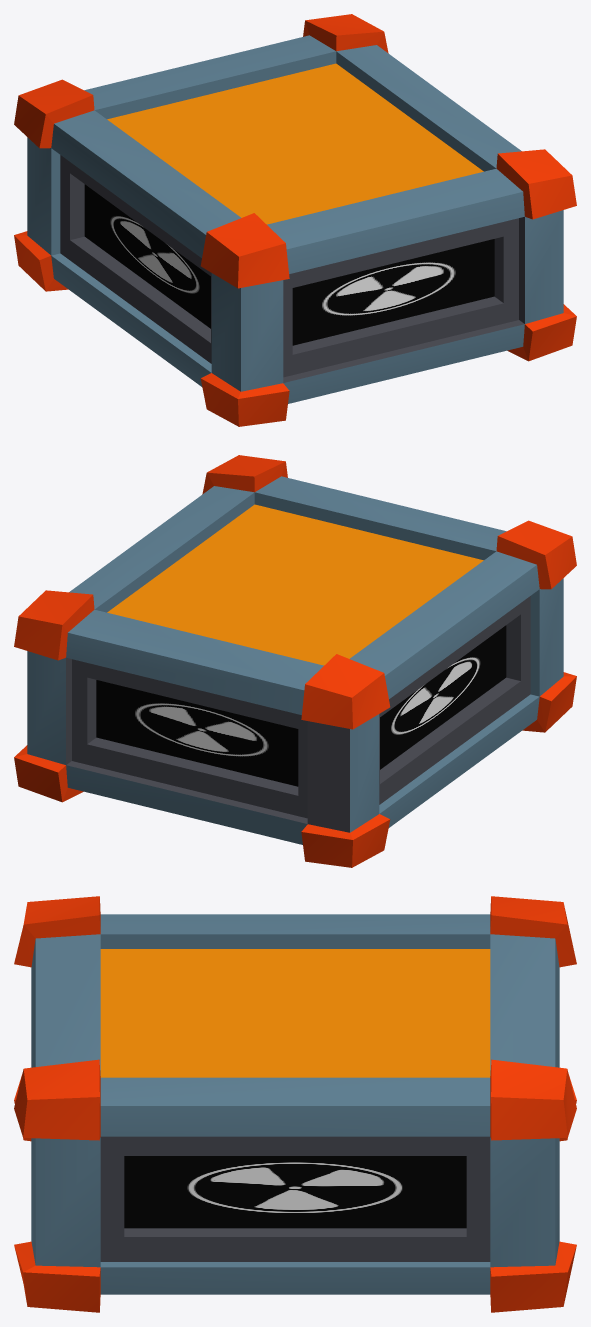
File: nuclear.obj
3 views of the same model, one above another, from view 1: azimuth 30°, elevation 25°; view 2: azimuth 150°, elevation 25°; view 3: azimuth 270°, elevation 25° (orthographic). The views are drawn at different scales.
Visible parts, largest first — view 1: Box001, Object003, Object004, Object001, Object002; view 2: Box001, Object003, Object004, Object001, Object002; view 3: Box001, Object003, Object001, Object002, Object004.
Part boxes in pixels (box(x1,y1,x2,y2)): Box001: box(27, 35, 563, 403); Object003: box(107, 63, 483, 224); Object004: box(60, 155, 524, 382); Object001: box(14, 14, 576, 426); Object002: box(84, 184, 494, 345); Box001: box(27, 476, 563, 844); Object003: box(107, 504, 483, 665); Object004: box(66, 596, 530, 832); Object001: box(14, 455, 576, 867); Object002: box(96, 625, 506, 786); Box001: box(31, 914, 559, 1294); Object003: box(100, 949, 490, 1077); Object001: box(14, 896, 576, 1312); Object002: box(124, 1156, 466, 1228); Object004: box(100, 1136, 490, 1261).
Size of the model in its own units: 84.92 by 44.52 by 97.02.
Materials: 5 (1 with a texture image).
